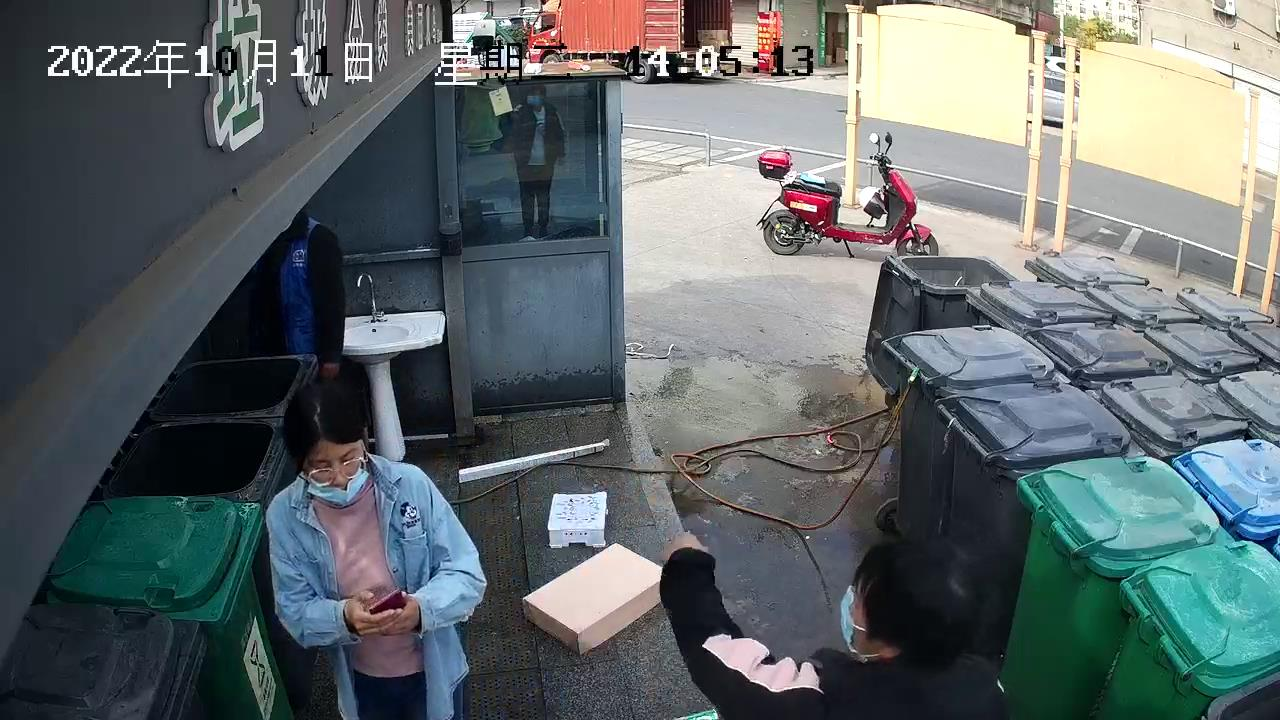person: (659, 529, 1012, 720)
suliaozhipin: (545, 488, 611, 549)
worker: (263, 382, 489, 720)
zhizhipin: (519, 541, 668, 656)
